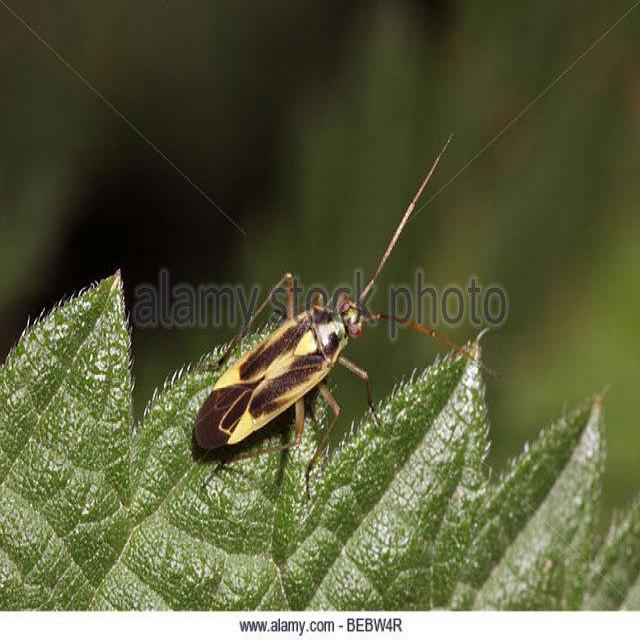Miridae-Adult-: (186, 155, 450, 470)
